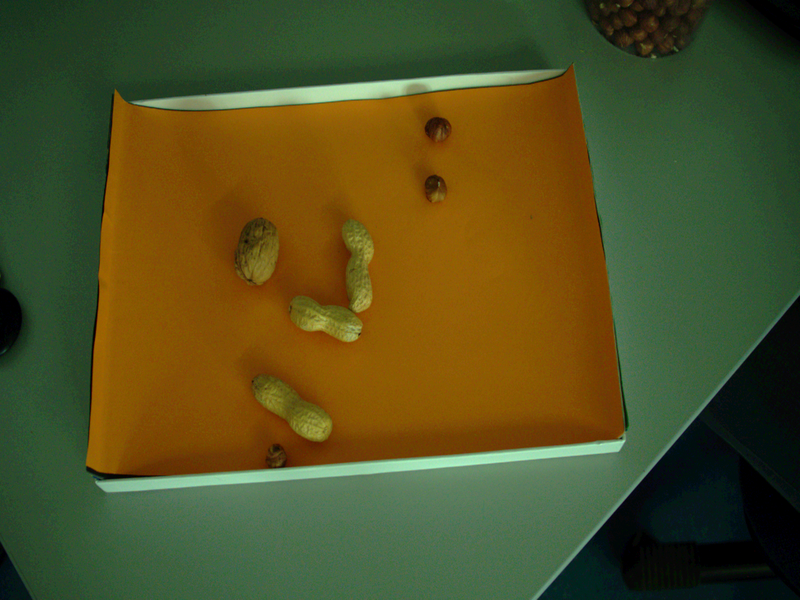walnut: (228, 213, 286, 290)
